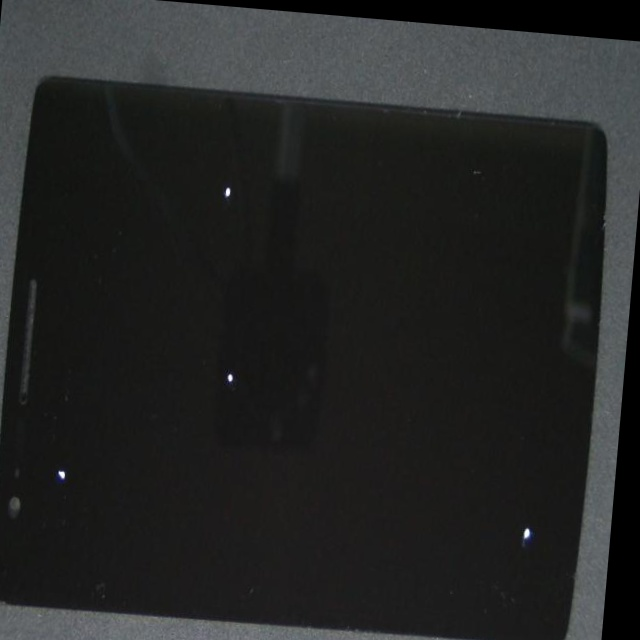stain: (249, 217, 635, 640), (114, 152, 377, 527), (18, 200, 134, 640), (121, 49, 357, 254)
